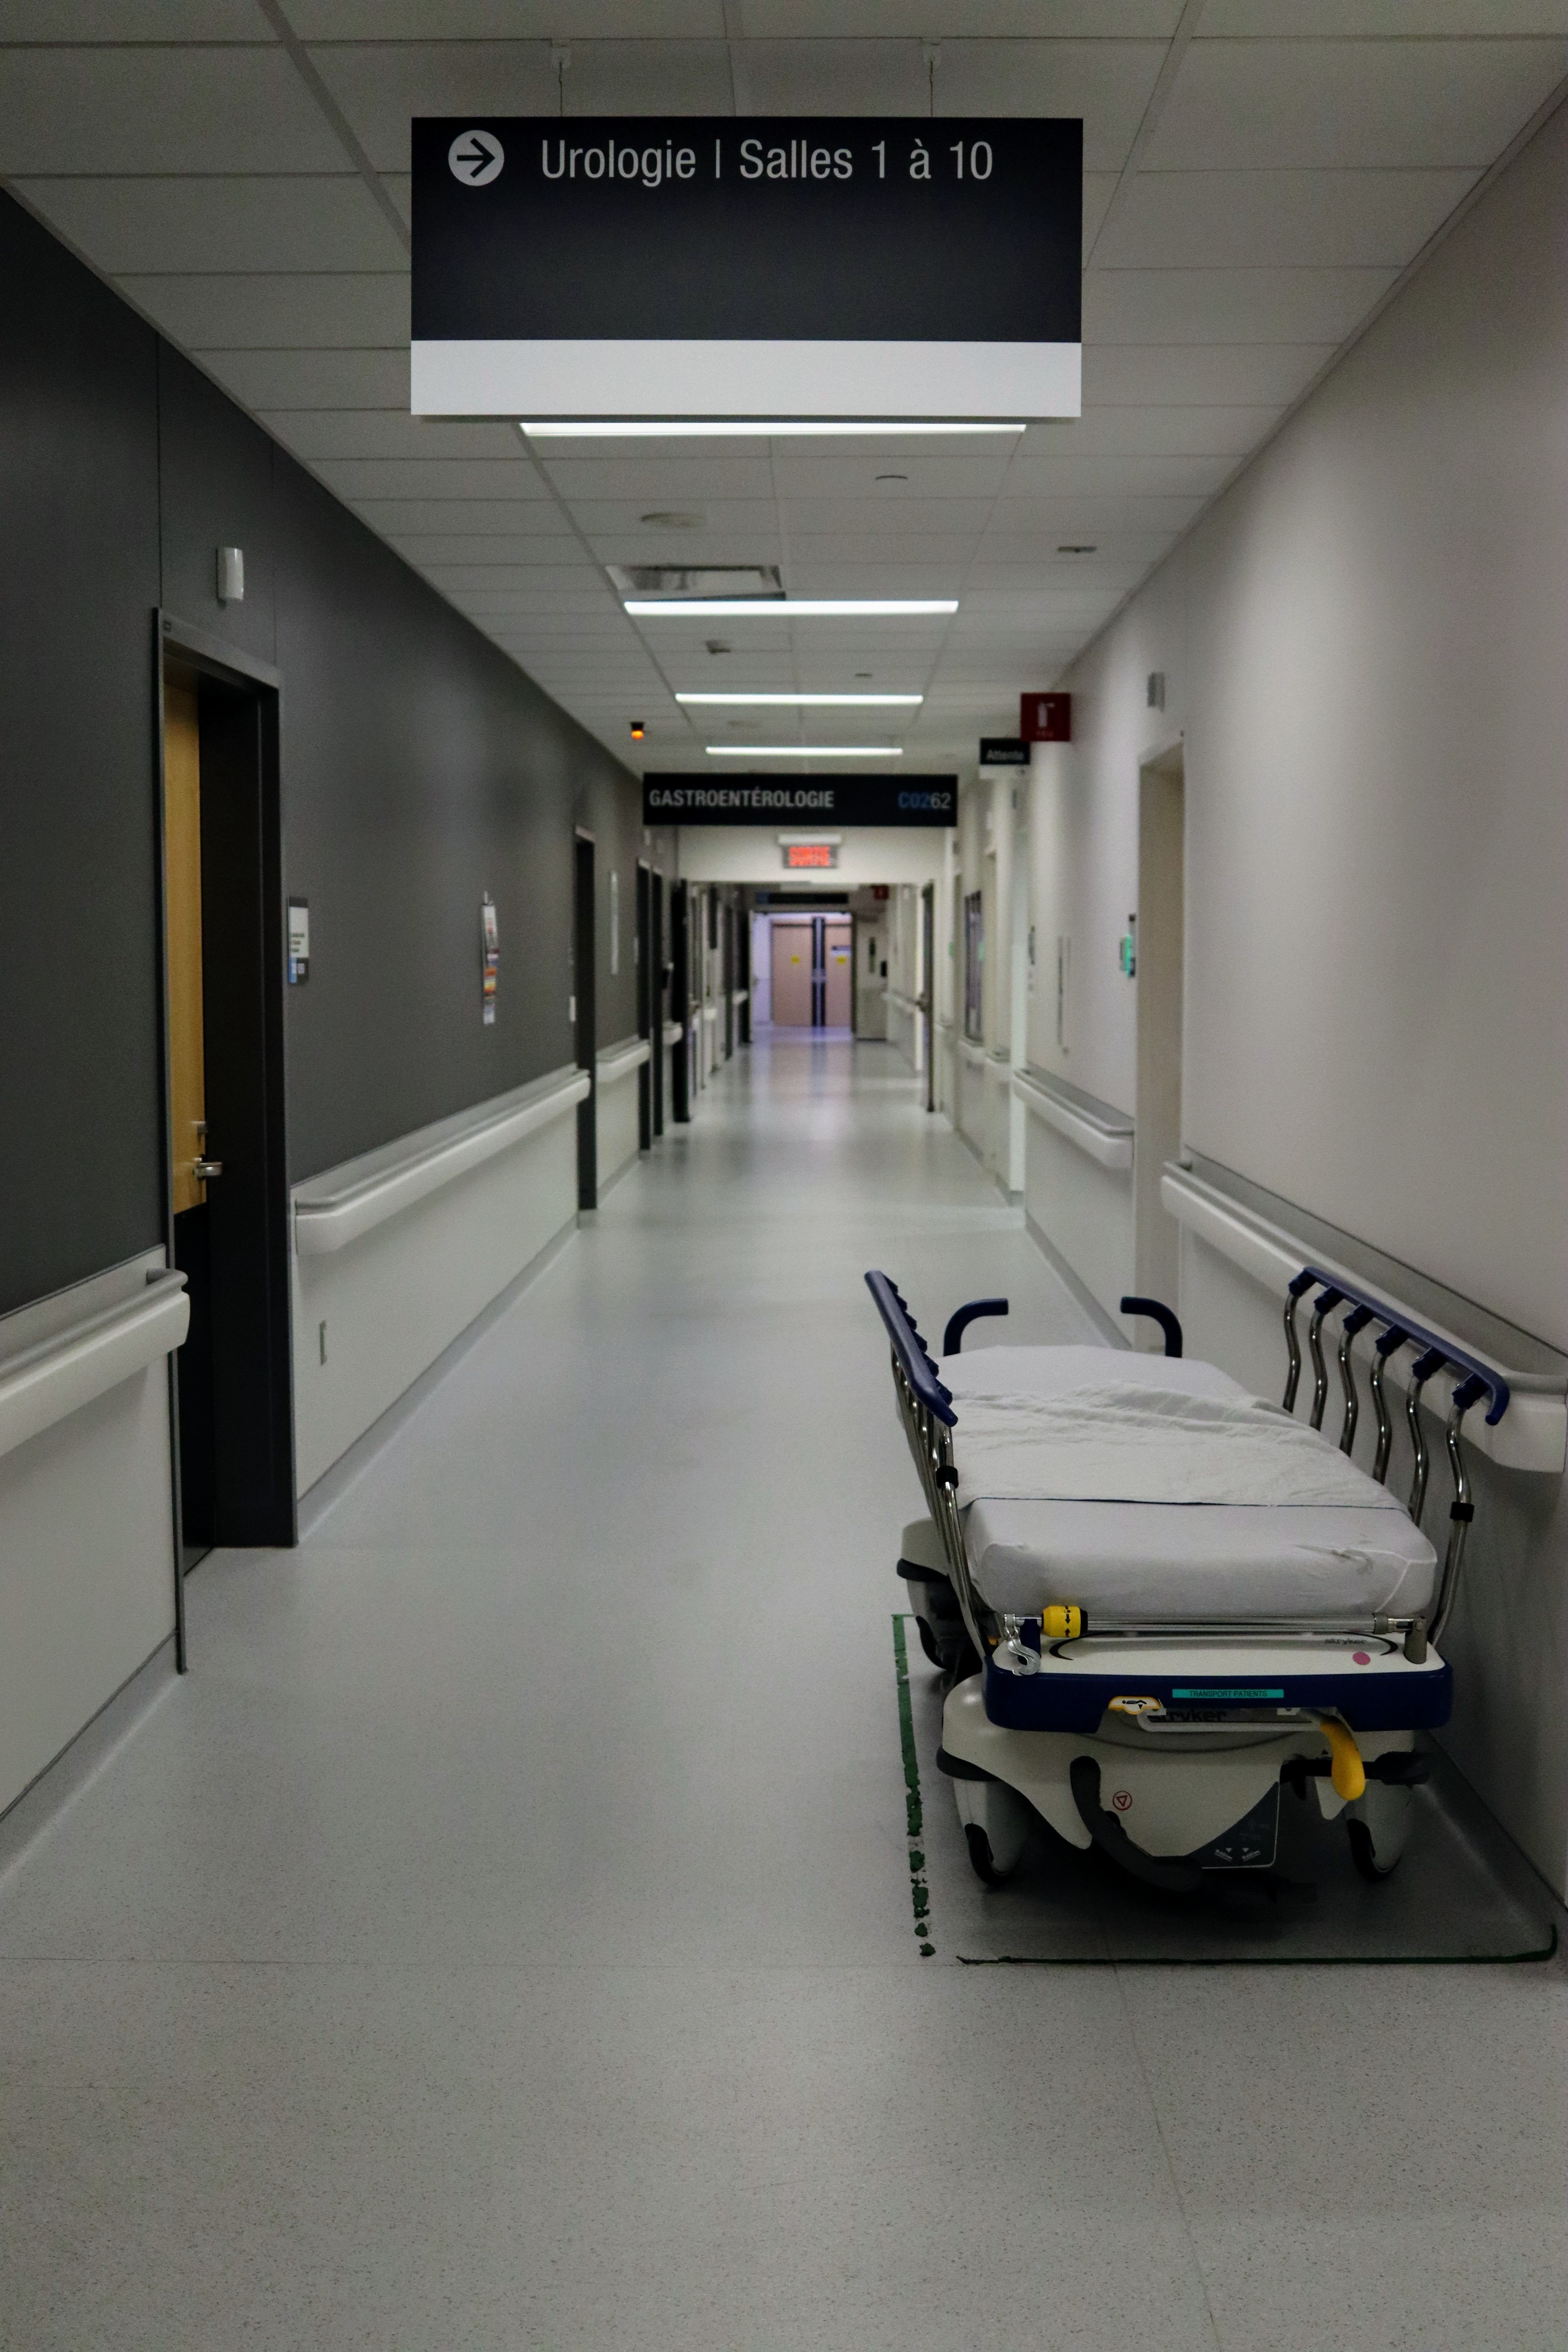bedrail: (1274, 1269, 1502, 1528), (843, 1267, 971, 1591)
door_handle: (182, 1110, 228, 1188)
hallway_assist_bar: (1171, 1169, 1557, 1463), (289, 1078, 581, 1283), (10, 1286, 185, 1473), (990, 1071, 1148, 1183), (919, 999, 1008, 1096), (592, 1039, 658, 1097)
hospital_bed: (863, 1262, 1516, 1888)
